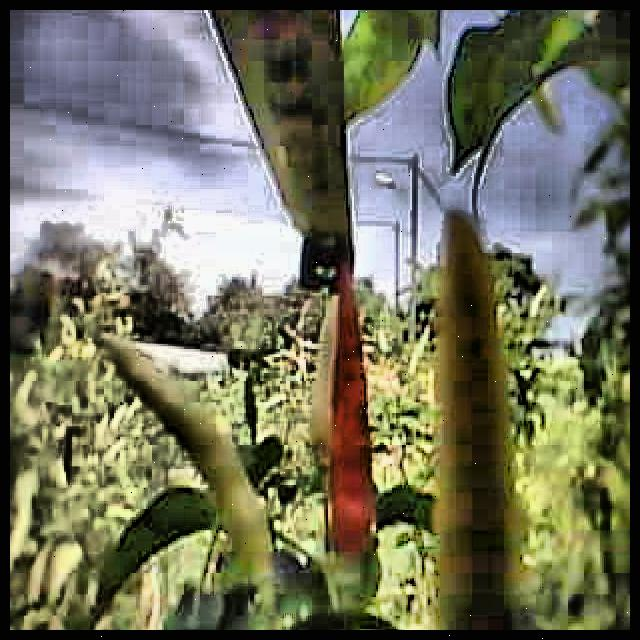Cabai: (330, 265, 399, 547)
